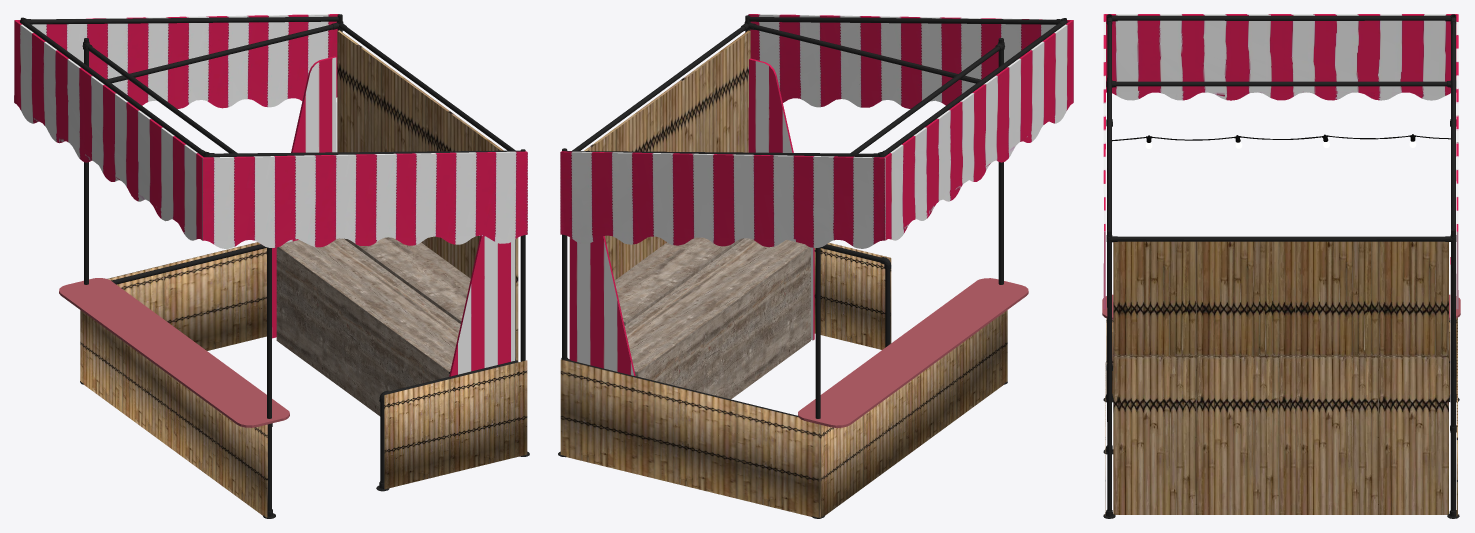
File: booth.glb
3 views of the same model, side by side, from view 1: azimuth 30°, elevation 25°; view 2: azimuth 150°, elevation 25°; view 3: azimuth 270°, elevation 25° (orthographic). The views are drawn at different scales.
Parts seen in each view (by area): view 1: Canopy_Canopy_0, Front_panel_Front panel_0, Lower_Left_side_Lower Left side_0, Metal_c4d_Metal Galvanized Rough_0, Back_counter_Back counter_0, Left_side_Left side_0, Side_Side_0, Lower_right_side_Lower right side_0, Counter_top_2_c4d_Physical_0, Counter_top_Counter top_0, Shelf_Shelf_0; view 2: Canopy_Canopy_0, Lower_right_side_Lower right side_0, Front_panel_Front panel_0, Back_counter_Back counter_0, Left_side_Left side_0, Metal_c4d_Metal Galvanized Rough_0, Side_Side_0, Counter_top_2_c4d_Physical_0, Counter_top_Counter top_0, Lower_Left_side_Lower Left side_0, Shelf_Shelf_0; view 3: Left_side_Left side_0, Canopy_Canopy_0, Metal_c4d_Metal Galvanized Rough_0, FESTOON_LIGHTS_7872_7873_STL_1_1_c4d_Plastic_BLACK SMOOTH_0, Front_panel_Front panel_0.
Part boxes in pixels (x1,y1,x2,y2): Canopy_Canopy_0: (14, 14, 527, 248); Front_panel_Front panel_0: (80, 310, 267, 517); Lower_Left_side_Lower Left side_0: (384, 360, 527, 489); Metal_c4d_Metal Galvanized Rough_0: (20, 14, 529, 518); Back_counter_Back counter_0: (276, 248, 449, 416); Left_side_Left side_0: (337, 30, 518, 360); Side_Side_0: (272, 56, 515, 376); Lower_right_side_Lower right side_0: (107, 242, 266, 350); Counter_top_2_c4d_Physical_0: (59, 278, 289, 427); Counter_top_Counter top_0: (277, 238, 460, 373); Shelf_Shelf_0: (344, 237, 470, 323); Canopy_Canopy_0: (560, 14, 1073, 248); Lower_right_side_Lower right side_0: (560, 359, 819, 517); Front_panel_Front panel_0: (820, 310, 1007, 517); Back_counter_Back counter_0: (635, 248, 810, 399); Left_side_Left side_0: (569, 30, 750, 299); Metal_c4d_Metal Galvanized Rough_0: (558, 15, 1067, 518); Side_Side_0: (569, 58, 814, 375); Counter_top_2_c4d_Physical_0: (798, 278, 1028, 427); Counter_top_Counter top_0: (624, 238, 810, 374); Lower_Left_side_Lower Left side_0: (814, 242, 891, 349); Shelf_Shelf_0: (614, 237, 744, 325); Left_side_Left side_0: (1113, 241, 1448, 514); Canopy_Canopy_0: (1103, 14, 1458, 309); Metal_c4d_Metal Galvanized Rough_0: (1103, 14, 1459, 518); FESTOON_LIGHTS_7872_7873_STL_1_1_c4d_Plastic_BLACK SMOOTH_0: (1112, 134, 1450, 142); Front_panel_Front panel_0: (1106, 318, 1456, 397).
Size of the model in its own units: 2.93 by 3.23 by 2.95.
Materials: 13 (9 with a texture image).
